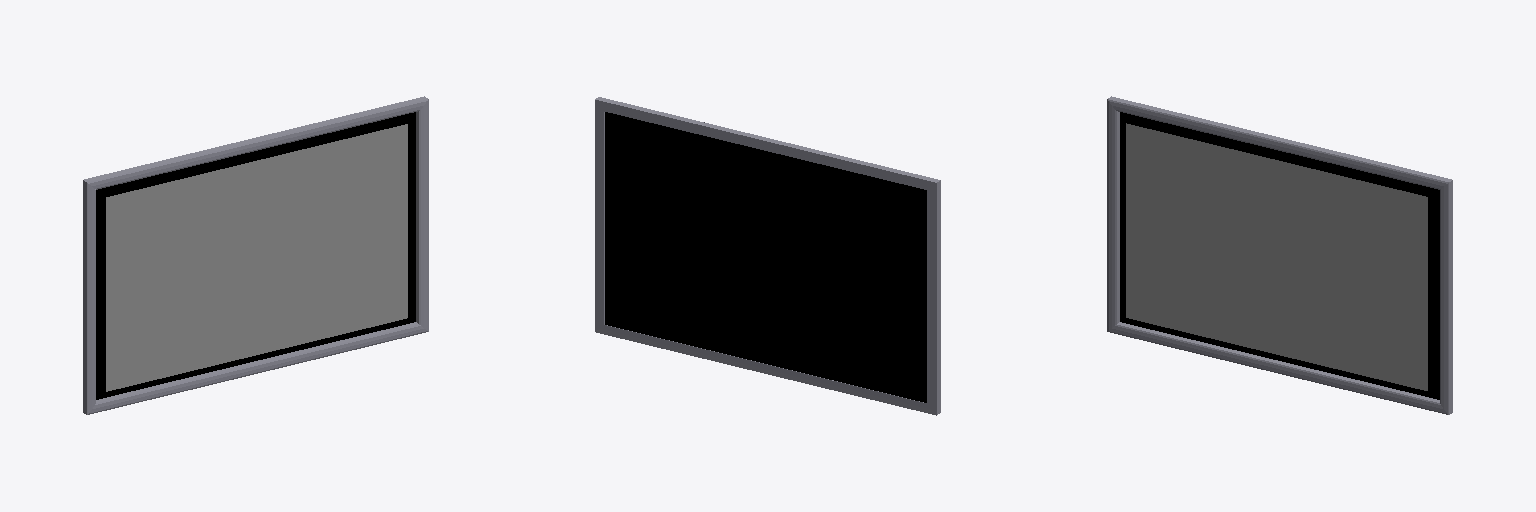
Rendered from LakeMoraineFrame.obj.
The picture shows the model from 3 angles: view 1: azimuth 30°, elevation 25°; view 2: azimuth 150°, elevation 25°; view 3: azimuth 330°, elevation 25°; orthographic projection.
Parts seen in each view (by area): view 1: Photo_Cube, MetalFrame_Cylinder, Frame_Black; view 2: Frame_Black, MetalFrame_Cylinder; view 3: Photo_Cube, MetalFrame_Cylinder, Frame_Black.
Boxes of the visible parts, <box> form: Photo_Cube: <box>106,124,407,391</box>; MetalFrame_Cylinder: <box>83,96,428,414</box>; Frame_Black: <box>96,112,415,399</box>; Frame_Black: <box>605,112,926,402</box>; MetalFrame_Cylinder: <box>595,97,940,415</box>; Photo_Cube: <box>1126,123,1427,390</box>; MetalFrame_Cylinder: <box>1107,96,1452,414</box>; Frame_Black: <box>1120,112,1439,399</box>.
Bounding box in the file's own units: 73.53 × 47.86 × 1.6.